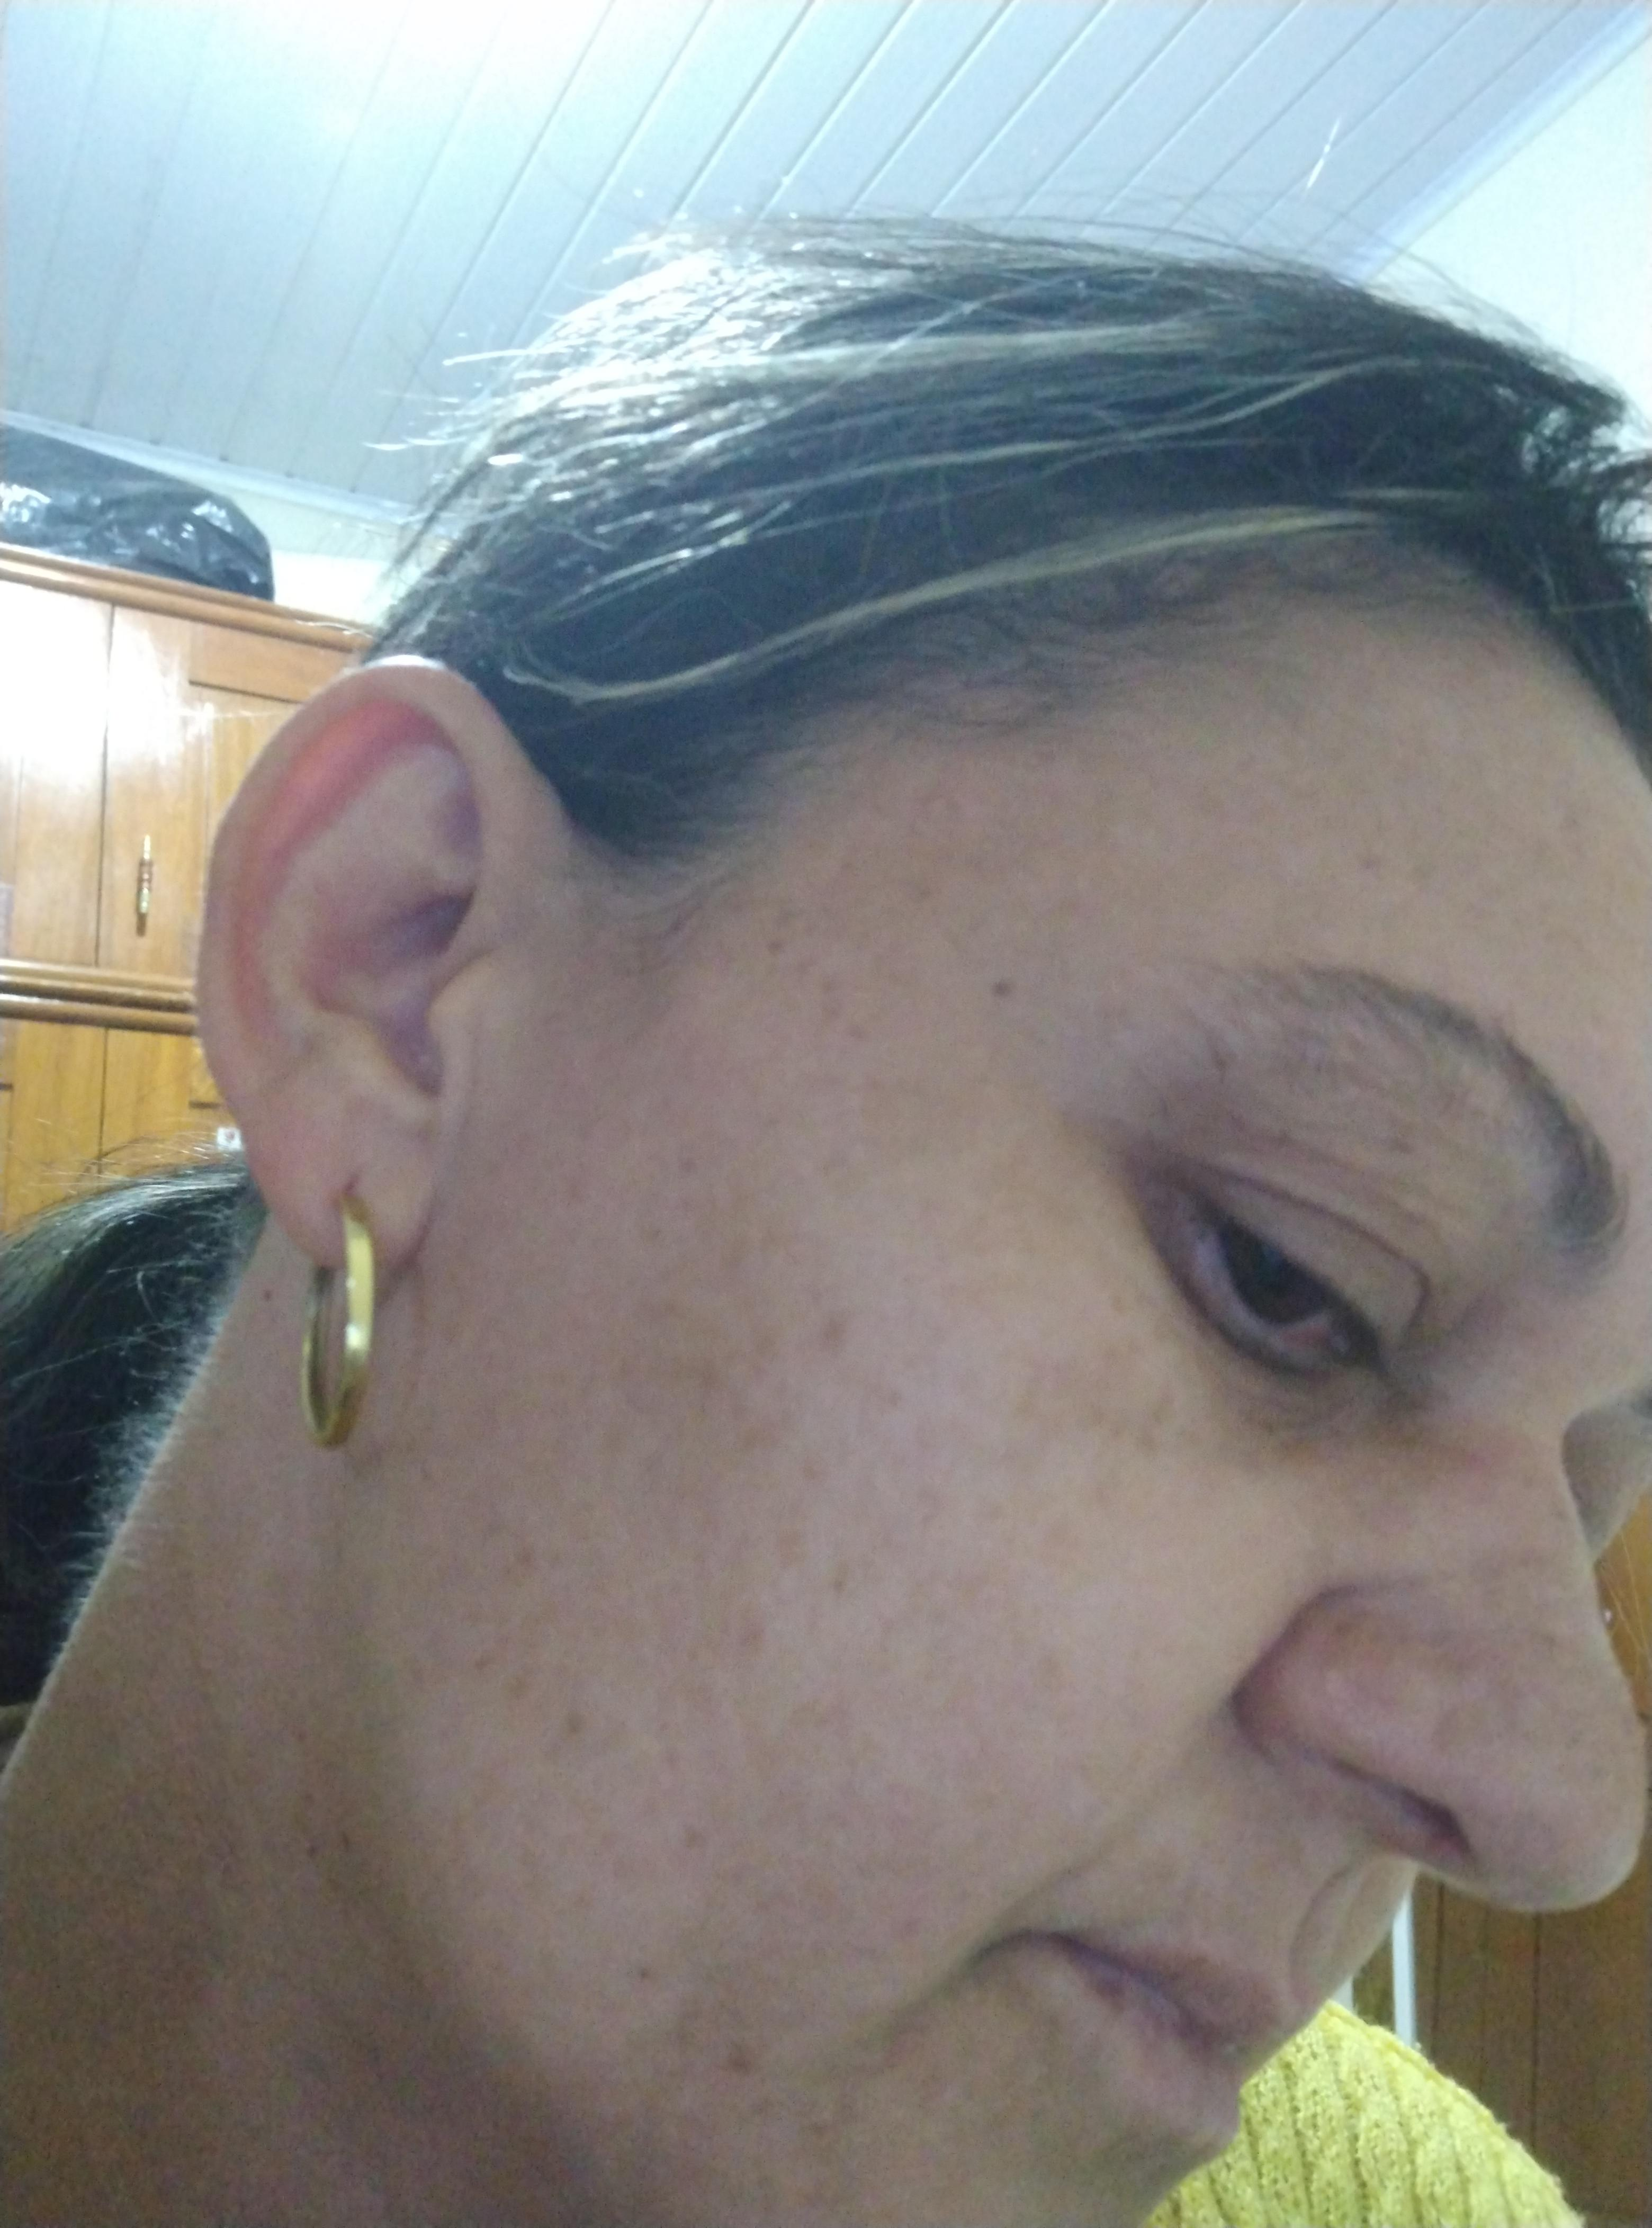Acne: (783, 1296, 869, 1360), (621, 1954, 680, 2008), (722, 2028, 769, 2093), (672, 1812, 727, 1865), (973, 973, 1026, 1015), (552, 1694, 590, 1737)
Wrinkles: (1222, 1069, 1449, 1197), (845, 1952, 982, 2108), (993, 1838, 1112, 1938), (1411, 1159, 1473, 1310), (1355, 1569, 1459, 1657), (1091, 1725, 1177, 1801)
